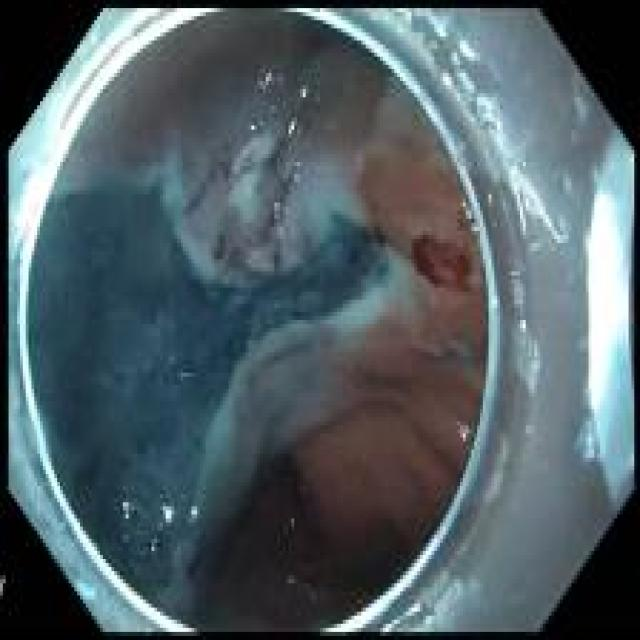blood: (414, 236, 481, 293)
contrast: (216, 460, 397, 620)
saturation: (15, 11, 218, 296), (47, 11, 157, 151), (589, 194, 629, 408)
specularity: (462, 40, 476, 58), (162, 508, 173, 523), (189, 510, 198, 523), (444, 76, 454, 87), (462, 426, 470, 439), (289, 121, 295, 138), (124, 504, 129, 520), (521, 322, 526, 331), (302, 88, 306, 96)
